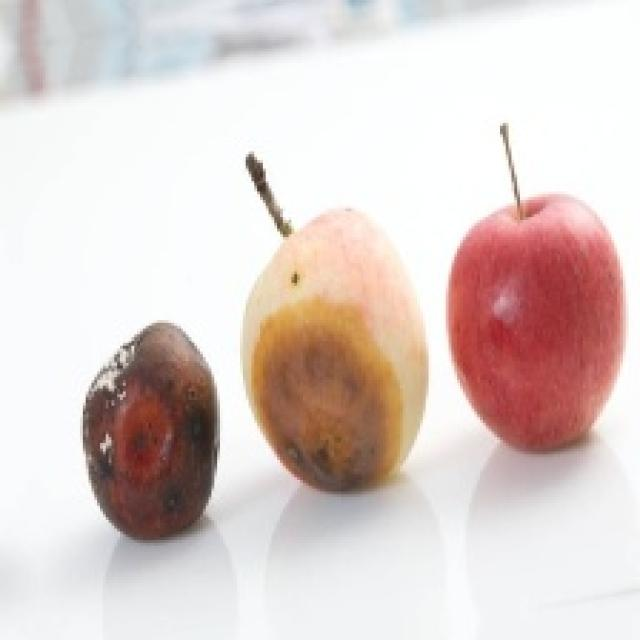100-_ripeness: (445, 192, 626, 453)
rotten_apple: (246, 213, 427, 486), (84, 326, 217, 533)
